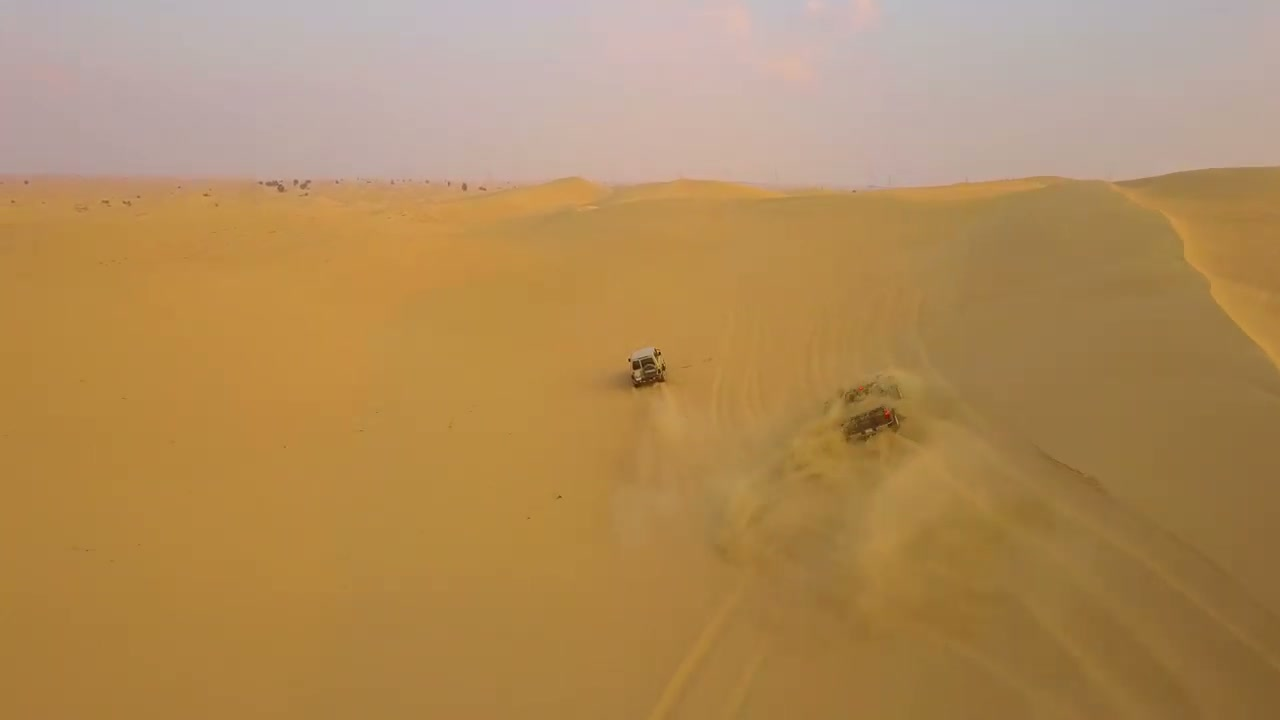vehicle_track: (904, 395, 1266, 700), (635, 569, 782, 719)
